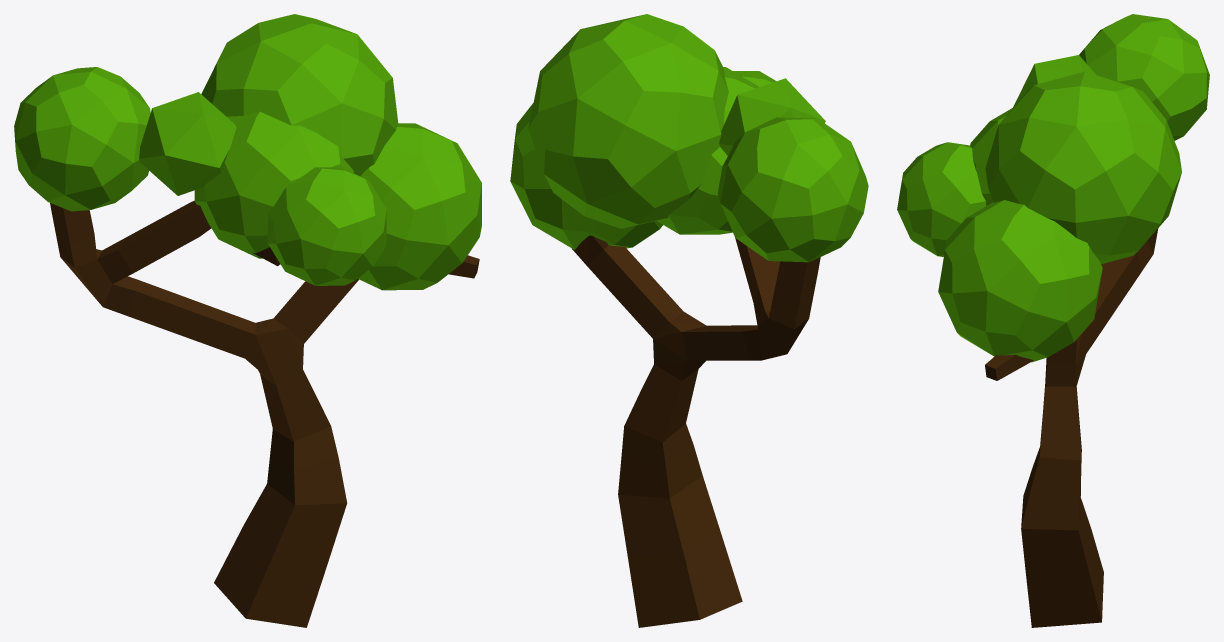
The model's file is Drevo02.glb.
3 views of the same model, side by side, from view 1: azimuth 30°, elevation 25°; view 2: azimuth 150°, elevation 25°; view 3: azimuth 270°, elevation 25° (orthographic). The views are drawn at different scales.
Parts seen in each view (by area): view 1: Cube.007; view 2: Cube.007; view 3: Cube.007.
Boxes of the visible parts, bbox=[...] form: Cube.007: bbox=[14, 14, 481, 627]; Cube.007: bbox=[510, 14, 868, 627]; Cube.007: bbox=[897, 14, 1209, 627].
Size of the model in its own units: 0.5318 by 0.7604 by 0.388.
